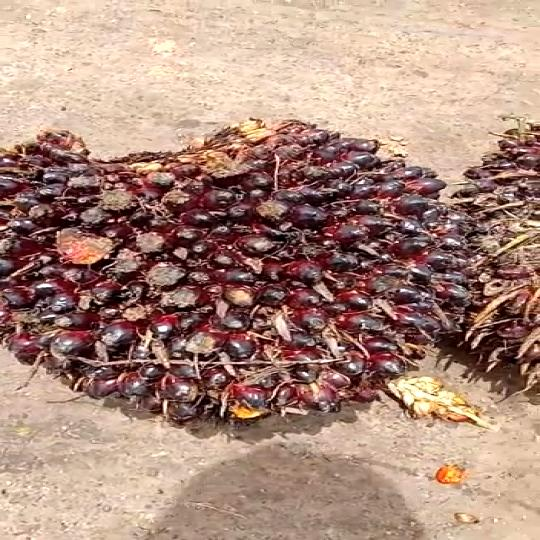kurang masak: (0, 114, 472, 450)
